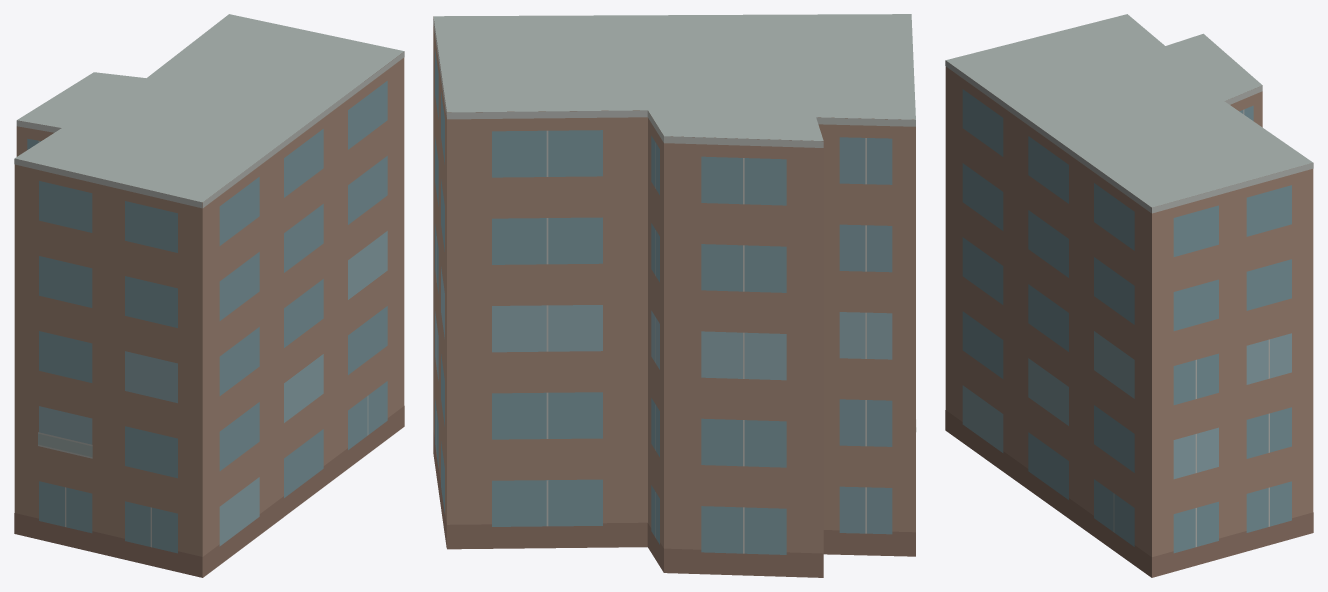
File: survey-upis-32649119.glb
3 views of the same model, side by side, from view 1: azimuth 30°, elevation 25°; view 2: azimuth 150°, elevation 25°; view 3: azimuth 270°, elevation 25° (orthographic). The views are drawn at different scales.
Visible parts, largest first — view 1: survey-upis-32649119.tmp; view 2: survey-upis-32649119.tmp; view 3: survey-upis-32649119.tmp.
Part boxes in pixels (bbox=[...]): survey-upis-32649119.tmp: bbox=[14, 14, 404, 577]; survey-upis-32649119.tmp: bbox=[433, 14, 916, 577]; survey-upis-32649119.tmp: bbox=[945, 14, 1313, 577].
Bounding box in the file's own units: 17.11 × 15.25 × 13.74.
